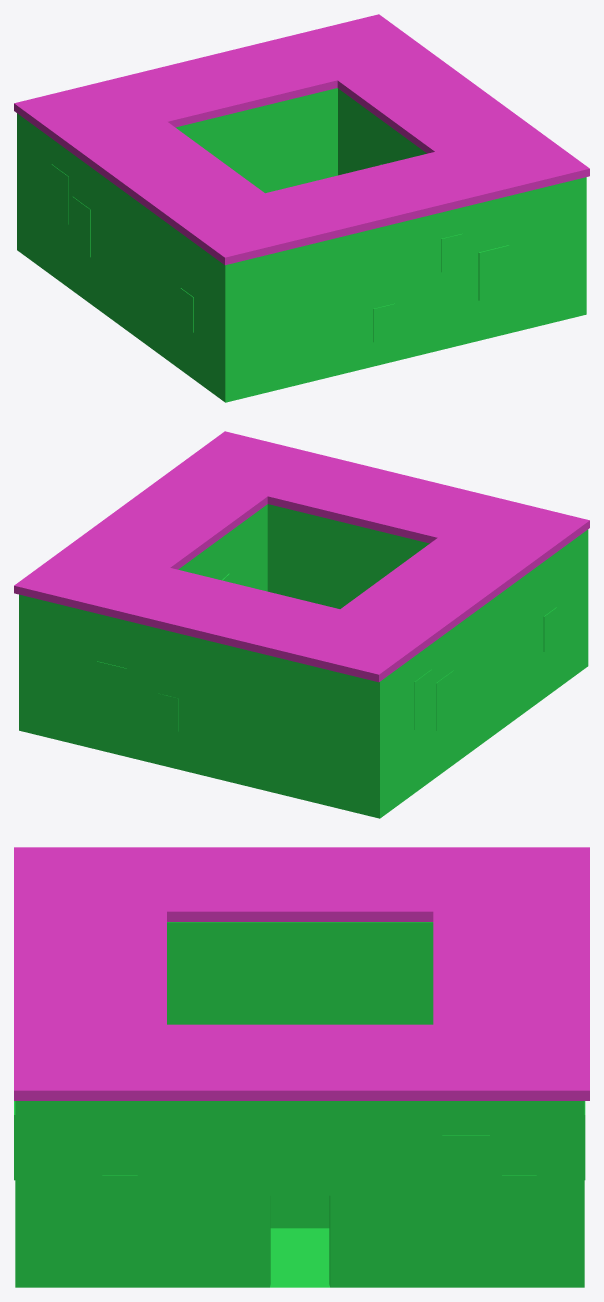
Rendered from comunaBlen.fbx.
3 renders of one model, top to bottom at view 1: azimuth 30°, elevation 25°; view 2: azimuth 150°, elevation 25°; view 3: azimuth 270°, elevation 25°, orthographic. The views are drawn at different scales.
Parts seen in each view (by area): view 1: Cube.106, techo, Cube.058, Cube.063, Cube.061, Cube.059, Cube.060, Cube.062; view 2: Cube.106, techo, Cube.055, Cube.061, Cube.063, Cube.057, Cube.062; view 3: Cube.106, techo, Cube.052, Cube.054, Cube.053.
Boxes of the visible parts, bbox=[...] form: Cube.106: bbox=[17, 88, 586, 402]; techo: bbox=[14, 14, 589, 265]; Cube.058: bbox=[478, 245, 509, 300]; Cube.063: bbox=[72, 197, 90, 257]; Cube.061: bbox=[51, 164, 68, 224]; Cube.059: bbox=[441, 233, 462, 272]; Cube.060: bbox=[373, 303, 394, 342]; Cube.062: bbox=[180, 288, 193, 332]; Cube.106: bbox=[19, 504, 588, 818]; techo: bbox=[14, 431, 589, 682]; Cube.055: bbox=[96, 661, 126, 716]; Cube.061: bbox=[414, 669, 432, 729]; Cube.063: bbox=[436, 670, 453, 730]; Cube.057: bbox=[157, 693, 178, 731]; Cube.062: bbox=[543, 607, 556, 651]; Cube.106: bbox=[15, 922, 584, 1287]; techo: bbox=[14, 847, 589, 1100]; Cube.052: bbox=[442, 1135, 489, 1200]; Cube.054: bbox=[102, 1175, 137, 1223]; Cube.053: bbox=[502, 1175, 536, 1223].
Size of the model in its own units: 2707 by 1036 by 2709.
